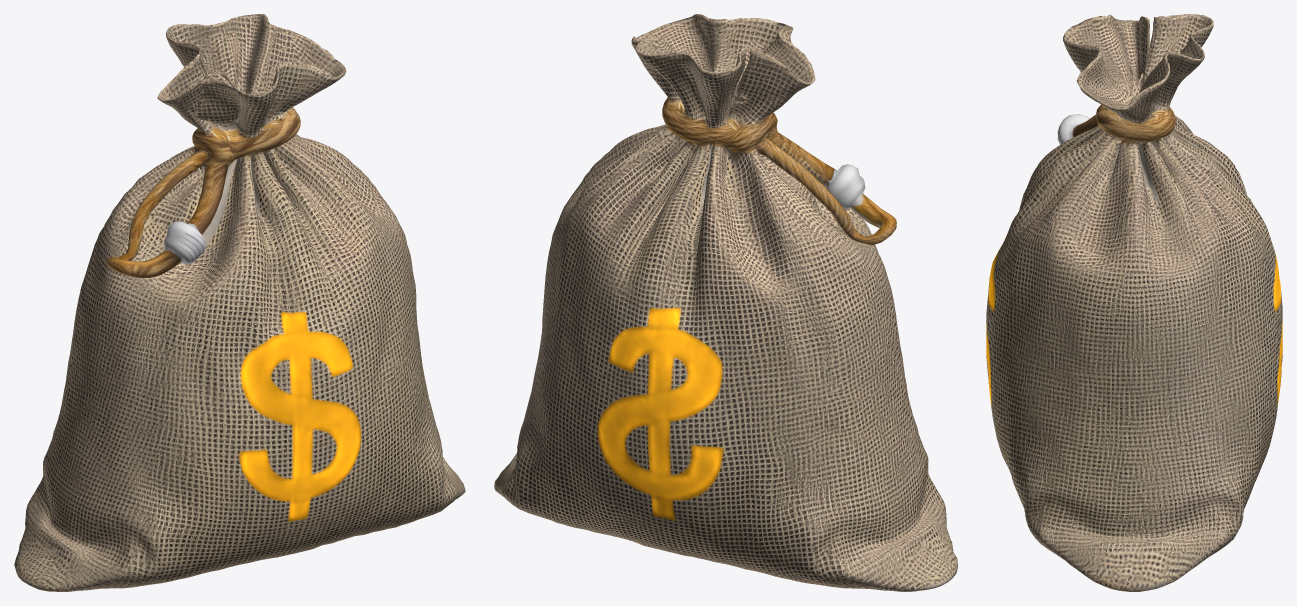
Rendered from money-bag.glb.
3 renders of one model, left to right at view 1: azimuth 30°, elevation 25°; view 2: azimuth 150°, elevation 25°; view 3: azimuth 270°, elevation 25°, orthographic. The views are drawn at different scales.
Size of the model in its own units: 1.75 by 1.91 by 1.09.
Materials: 1 (1 with a texture image).
